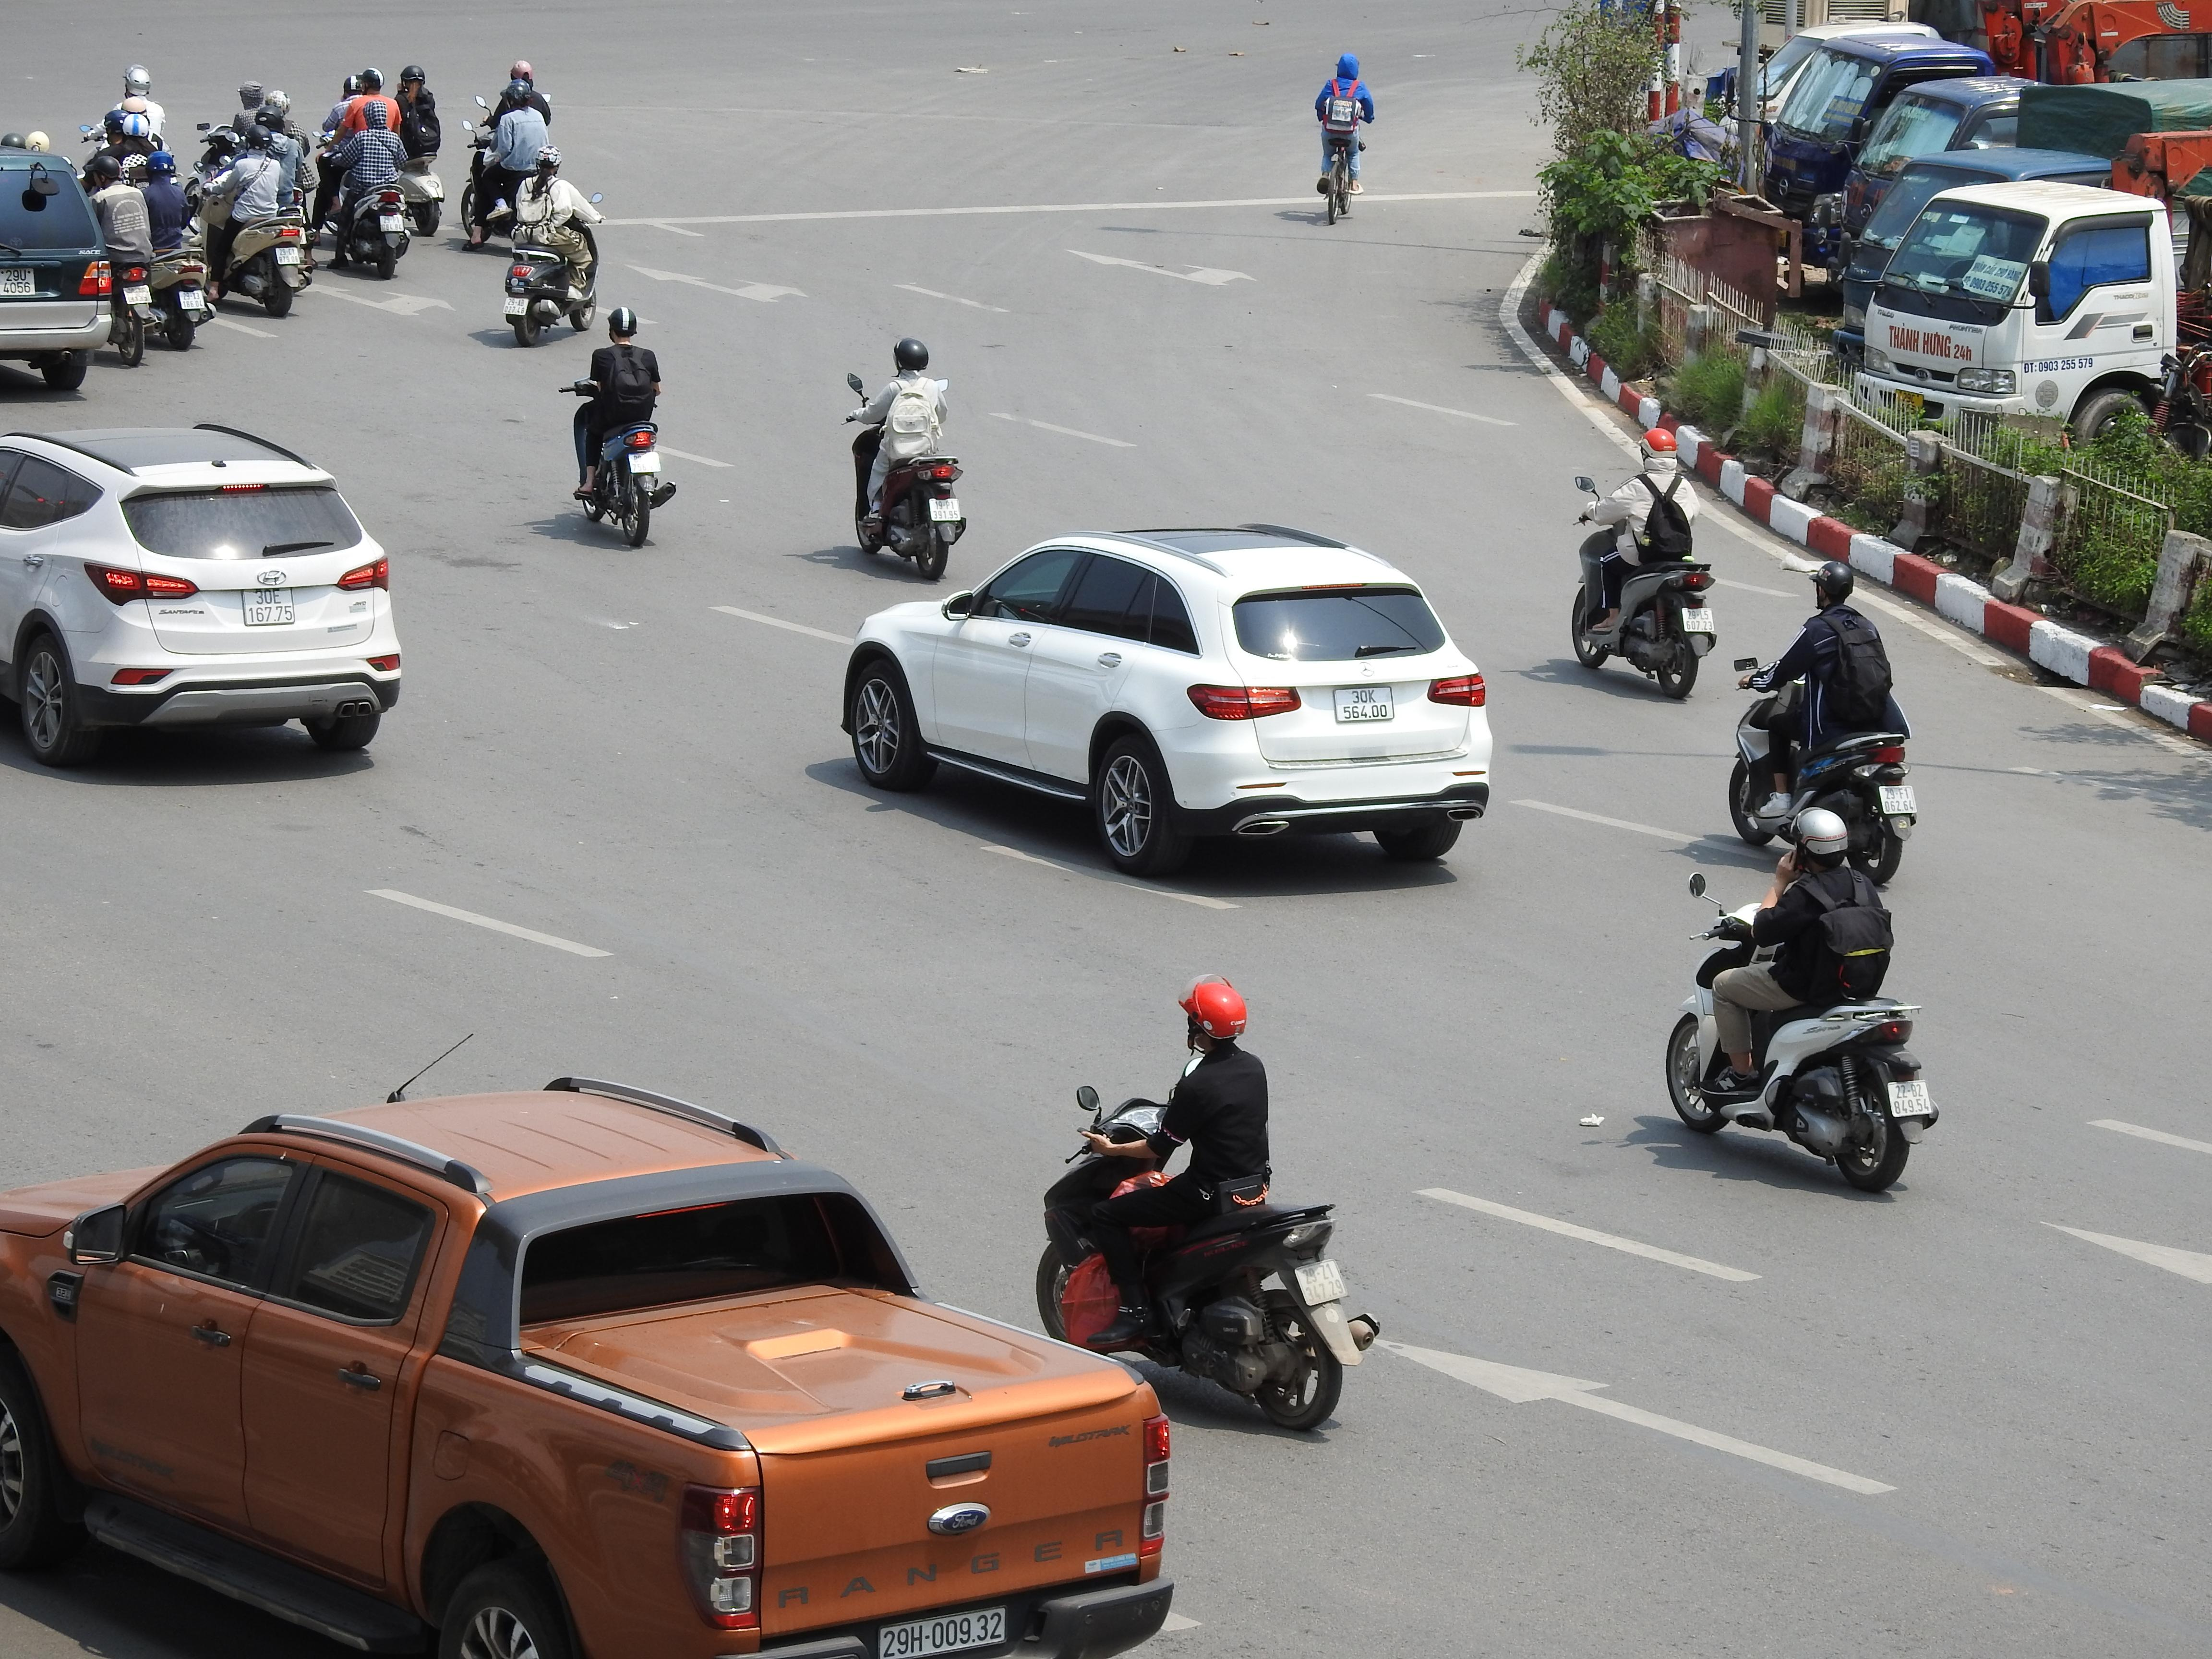BSD: (880, 1600, 1008, 1659)
BSV: (1296, 1258, 1346, 1307), (1334, 685, 1393, 721), (1885, 1079, 1935, 1119), (242, 589, 294, 626), (1876, 784, 1916, 816), (0, 268, 35, 298), (927, 497, 963, 523), (1681, 606, 1714, 633), (629, 451, 660, 476), (124, 284, 153, 305), (178, 289, 206, 310), (275, 246, 301, 265), (503, 296, 529, 315), (380, 214, 404, 234)
car: (0, 1073, 1176, 1659), (841, 523, 1496, 877), (0, 422, 402, 767), (0, 134, 111, 394)
motorbike: (1033, 978, 1378, 1432), (1663, 802, 1939, 1195), (1726, 559, 1919, 887), (1569, 427, 1721, 704), (845, 336, 968, 584), (564, 305, 674, 551), (96, 150, 207, 361), (199, 117, 314, 317), (500, 146, 603, 349), (92, 148, 179, 362), (460, 61, 556, 253), (317, 94, 416, 279), (1313, 54, 1374, 223), (390, 64, 446, 235)
